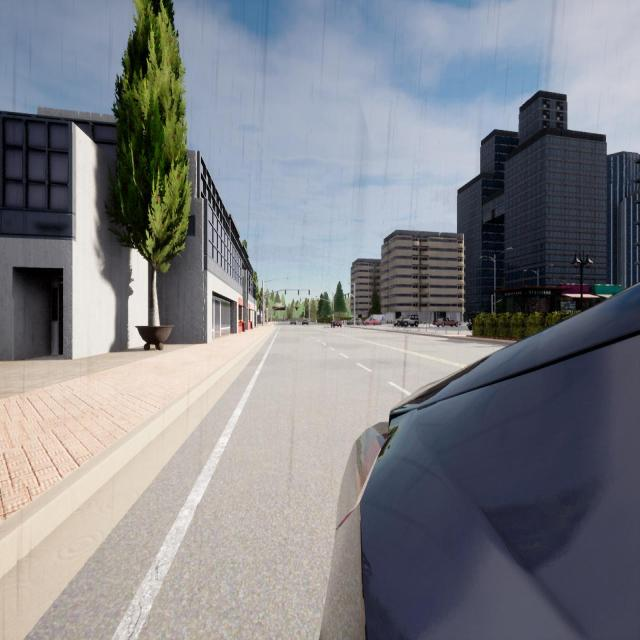Vehicle: (321, 285, 639, 638), (394, 315, 418, 327), (437, 318, 458, 327), (368, 315, 384, 325), (363, 320, 378, 326), (349, 318, 360, 326), (331, 320, 341, 328), (468, 314, 472, 330), (290, 320, 296, 325), (302, 320, 308, 325)
traffic_light: (332, 310, 334, 314), (298, 290, 299, 295), (345, 294, 346, 298), (285, 290, 286, 294), (308, 298, 309, 302), (309, 290, 310, 294), (348, 294, 349, 298), (301, 298, 301, 302), (318, 299, 318, 302)
